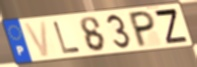3: (106, 13, 133, 52)
8: (79, 16, 108, 53)
L: (51, 21, 82, 56)
P: (129, 10, 157, 50)
V: (22, 20, 51, 58)
Z: (152, 8, 190, 45)
